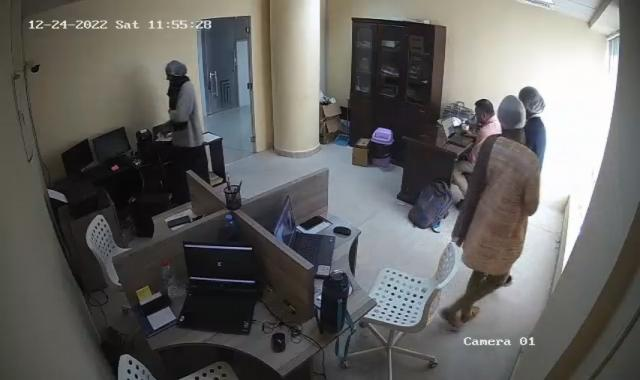hairnet: (498, 94, 527, 133), (520, 84, 543, 122), (165, 57, 188, 82)
no_hairnet: (472, 97, 496, 128)
